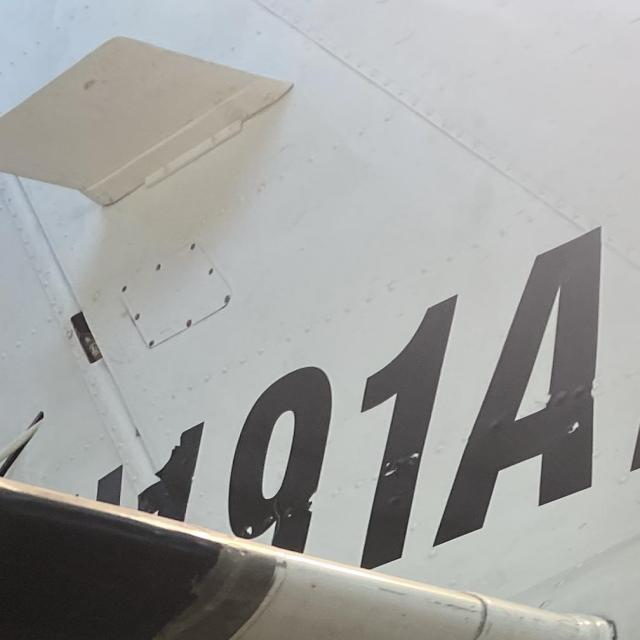Crack: (431, 590, 477, 616), (371, 582, 415, 601)
